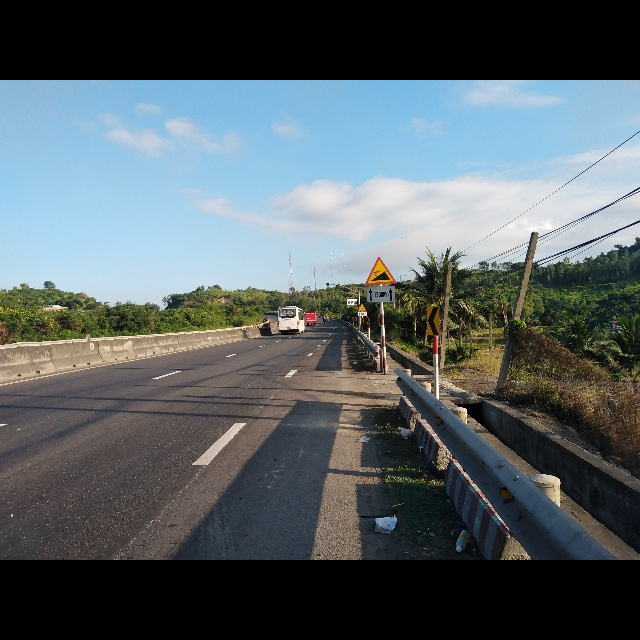Dốc lên nguy hiểm: (365, 255, 395, 285)
